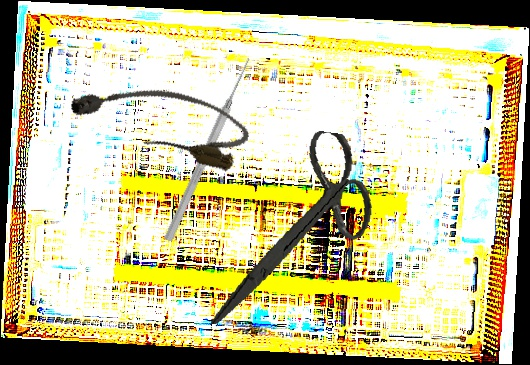Cannula: (63, 62, 256, 176)
Iris Scissors: (207, 119, 383, 344)
Pusher: (162, 55, 255, 244)
